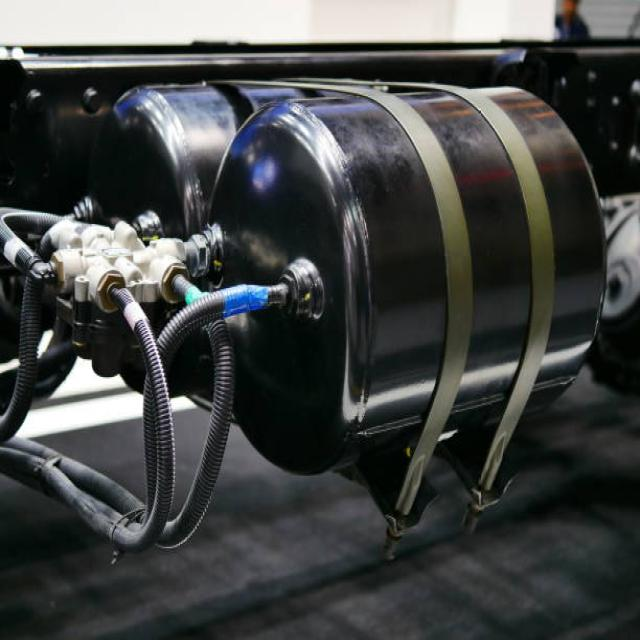compressor: (12, 34, 611, 563)
